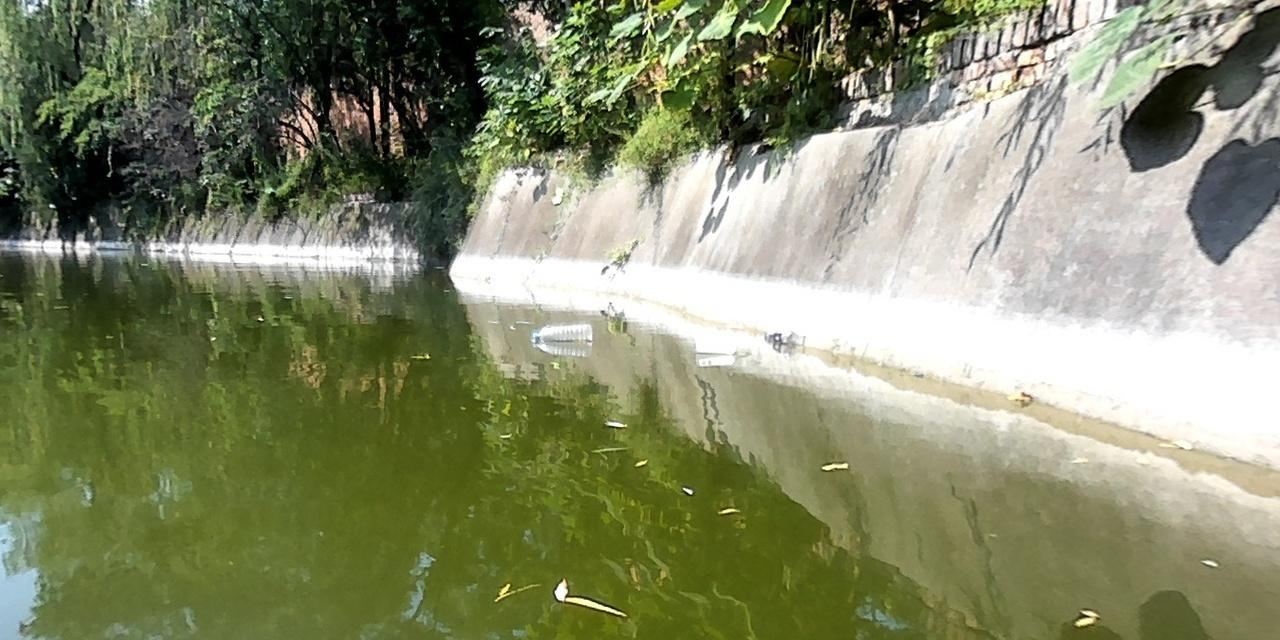bottle: (531, 321, 591, 342)
